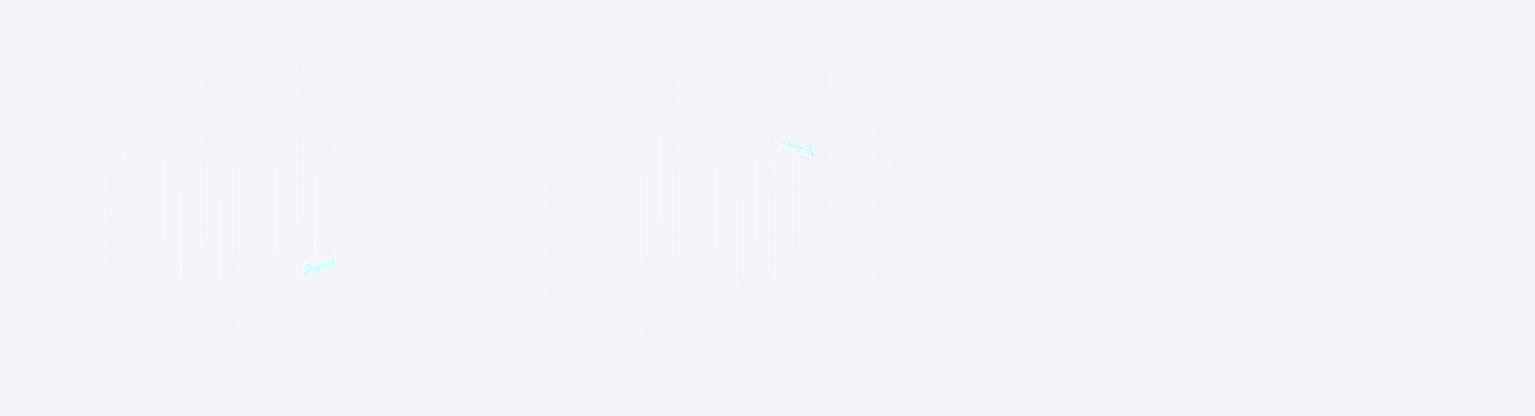
3 renders of one model, left to right at view 1: azimuth 30°, elevation 25°; view 2: azimuth 150°, elevation 25°; view 3: azimuth 270°, elevation 25°, orthographic. The views are drawn at different scales.
Parts seen in each view (by area): view 1: Grid; view 2: Grid; view 3: Grid.
Boxes of the visible parts, left/top/right/bottom form: Grid: left=14, top=37, right=449, bottom=378; Grid: left=506, top=37, right=941, bottom=378; Grid: left=970, top=14, right=1520, bottom=401.
Bounding box in the file's own units: 5 × 3.5 × 7.5.
6 materials, 2 textured.
